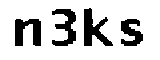3: (48, 6, 80, 50)
k: (80, 4, 115, 53)
n: (11, 17, 43, 50)
s: (117, 17, 145, 53)
